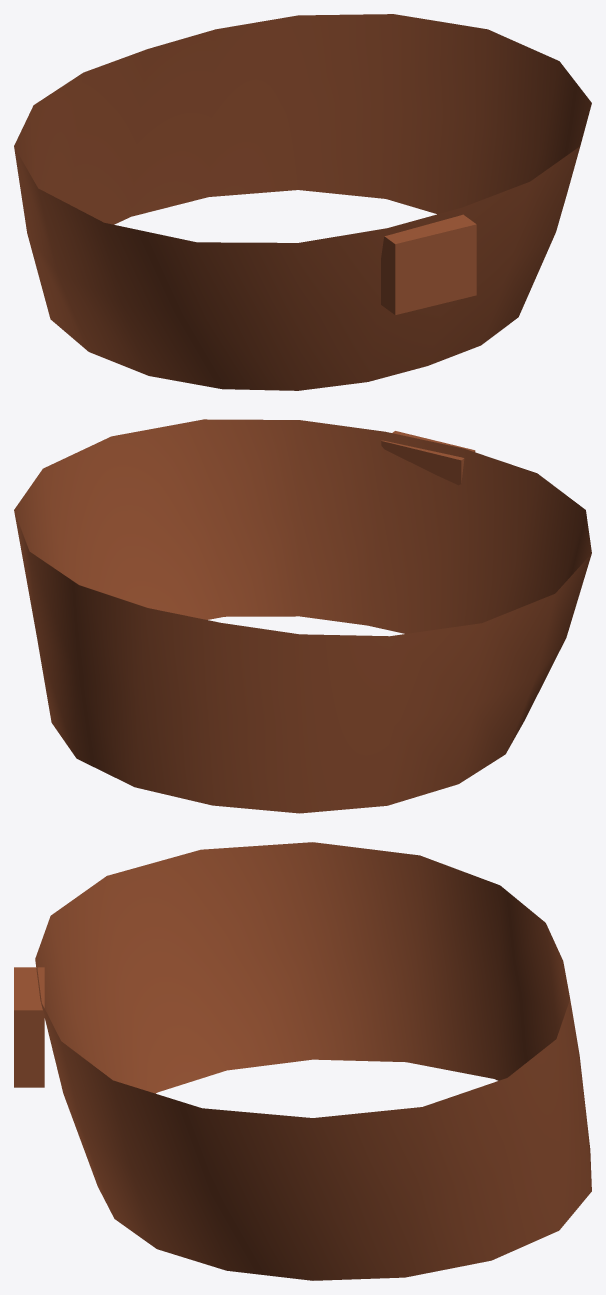
The model's file is copper_armor_belt.glb.
The picture shows the model from 3 angles, top to bottom: view 1: azimuth 30°, elevation 25°; view 2: azimuth 150°, elevation 25°; view 3: azimuth 270°, elevation 25°; orthographic projection. The views are drawn at different scales.
Visible parts, largest first — view 1: copper_armor_belt; view 2: copper_armor_belt; view 3: copper_armor_belt.
Part boxes in pixels (left/top/right/bottom): copper_armor_belt: left=14, top=14, right=591, bottom=390; copper_armor_belt: left=14, top=419, right=591, bottom=813; copper_armor_belt: left=14, top=842, right=591, bottom=1280.
Size of the model in its own units: 0.3841 by 0.1238 by 0.34.
